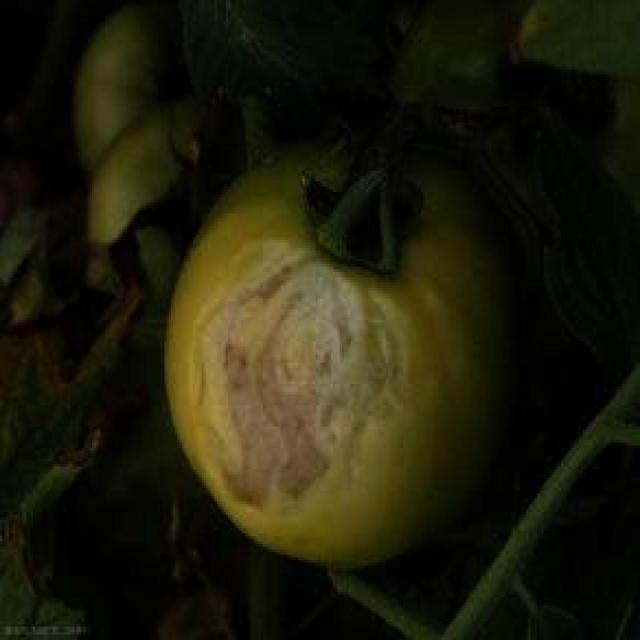Sunscald Fruit: (125, 160, 281, 357)
